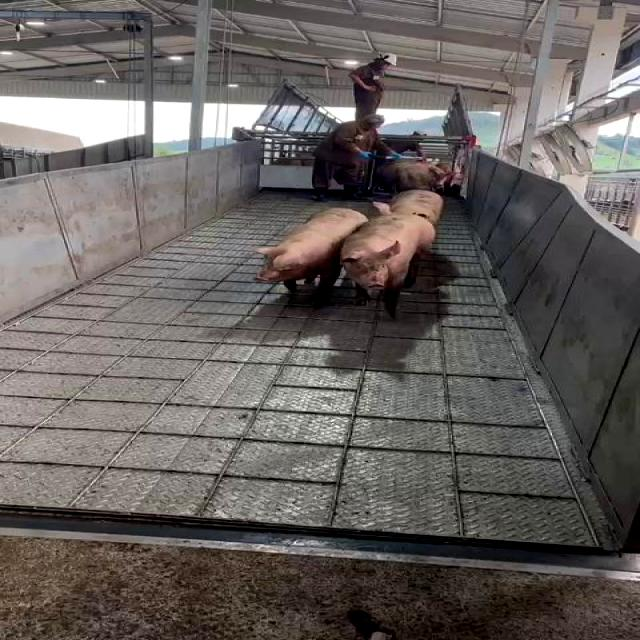pig: (255, 209, 367, 304), (341, 213, 435, 316), (389, 190, 442, 227)
